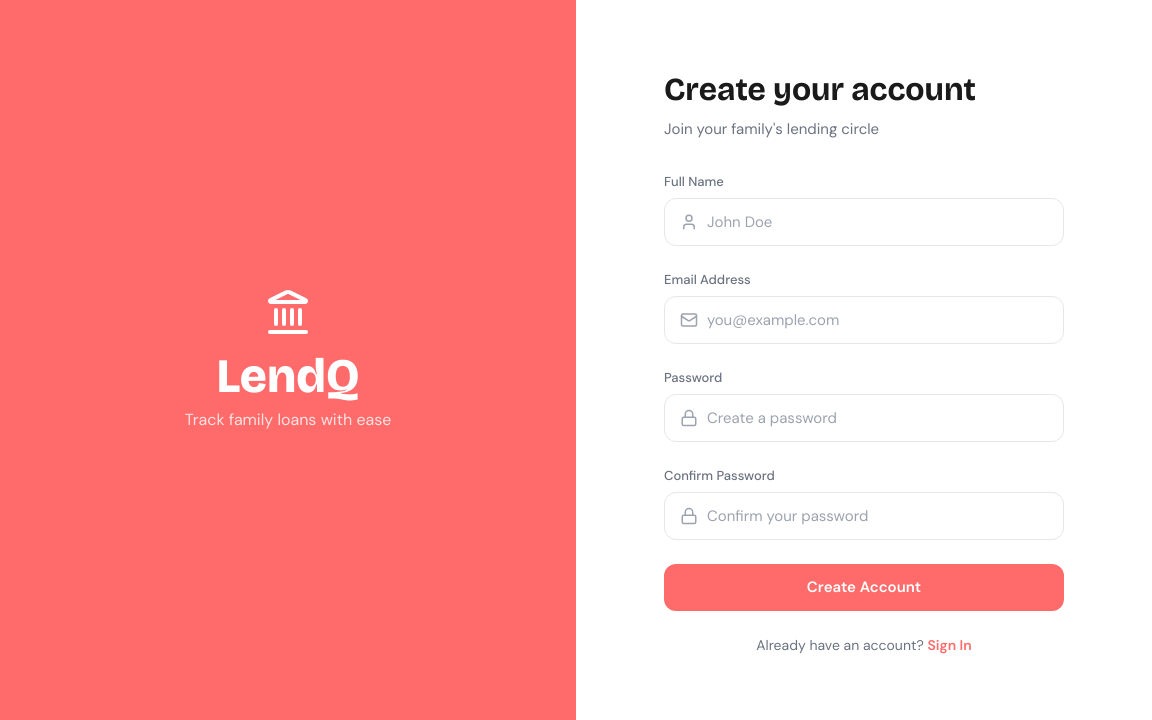
Test: SignUpPage › shows success state after a successful signup
In the field labelled "Full Name": (864, 222) [664,198,1064,246], type "Test User"
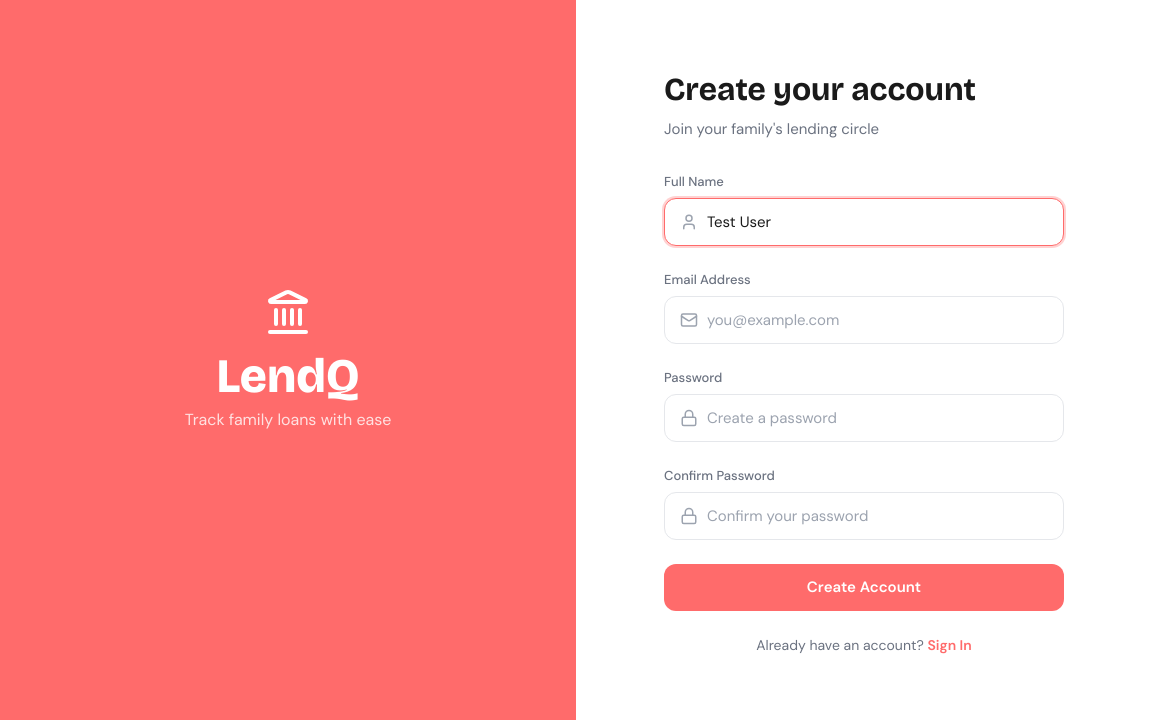
In the field labelled "Email Address": (864, 320) [664,296,1064,344], type "test@example.com"
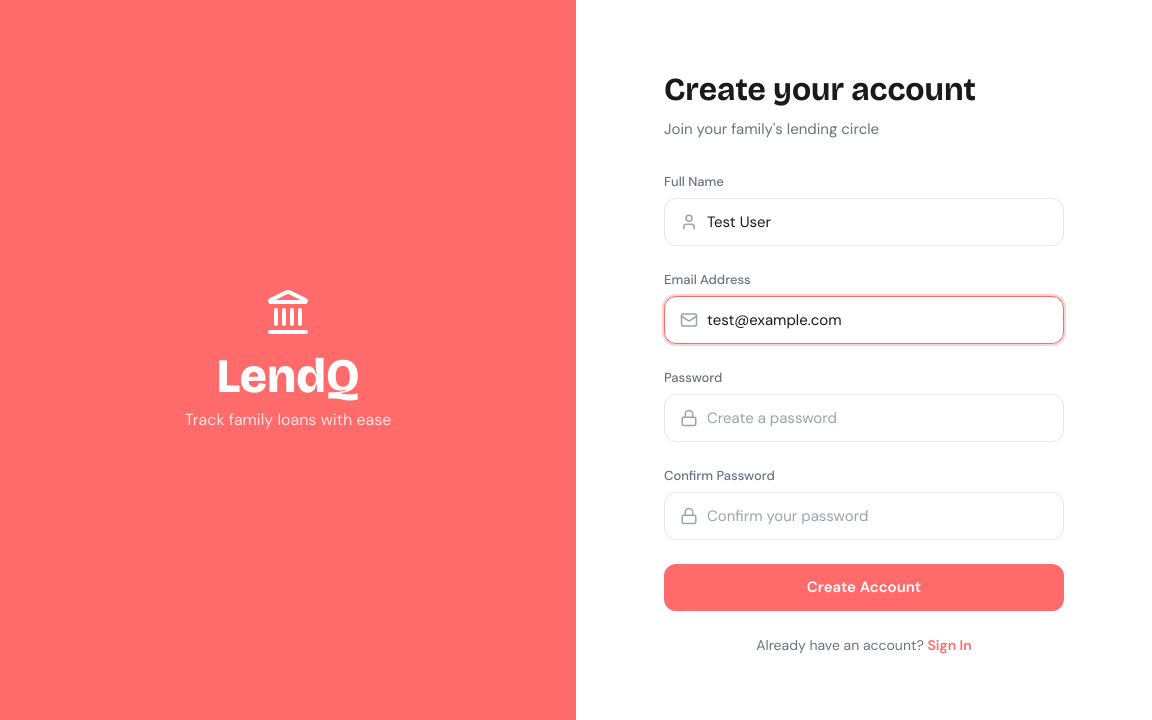
In the password field labelled "Password": (864, 418) [664,394,1064,442], type "password123"
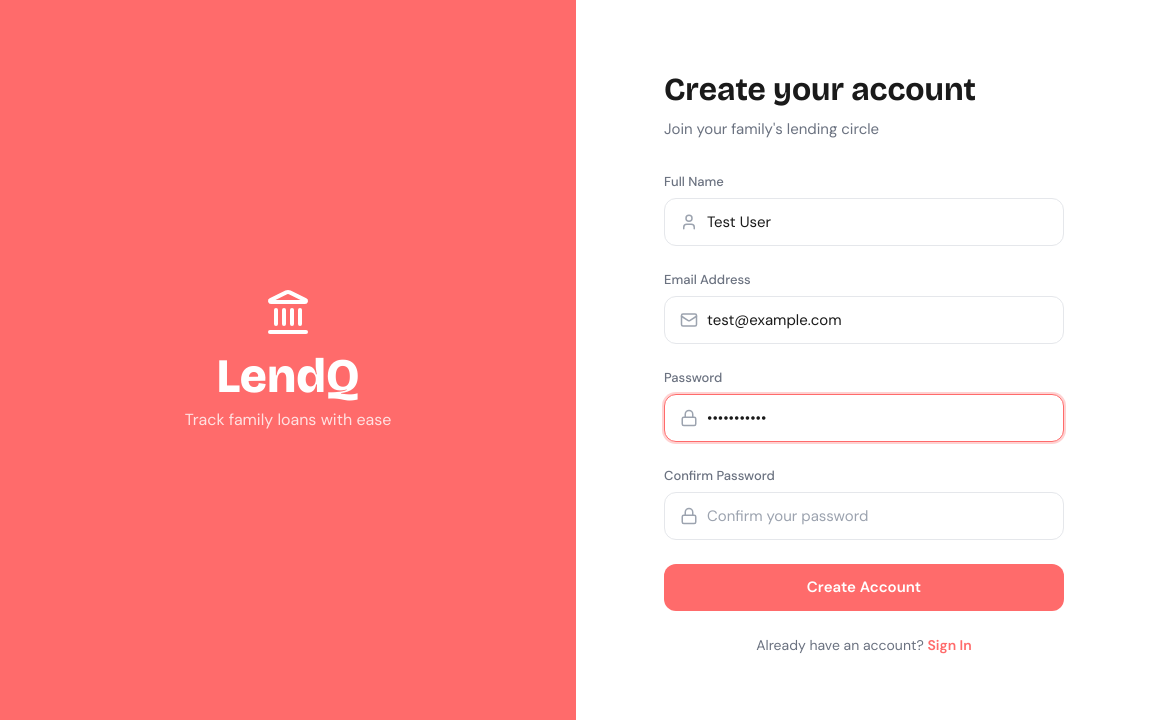
In the password field labelled "Confirm Password": (864, 516) [664,492,1064,540], type "password123"
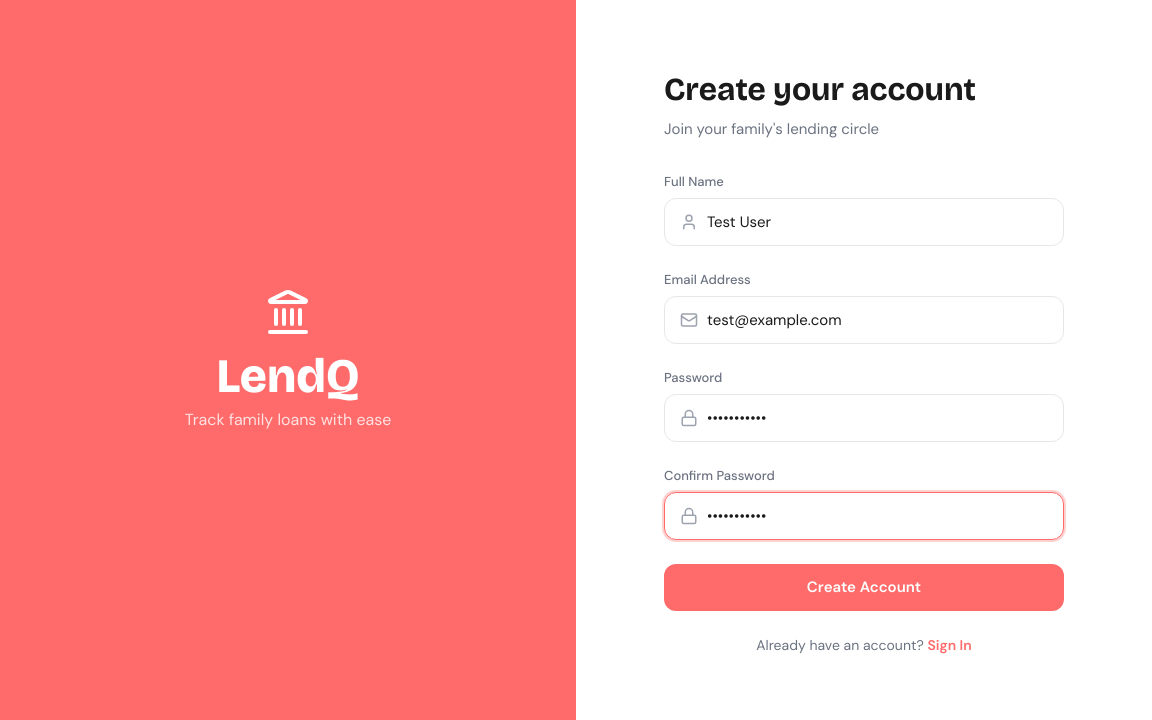
Click the button "Create Account": (864, 587) [664,564,1064,610]
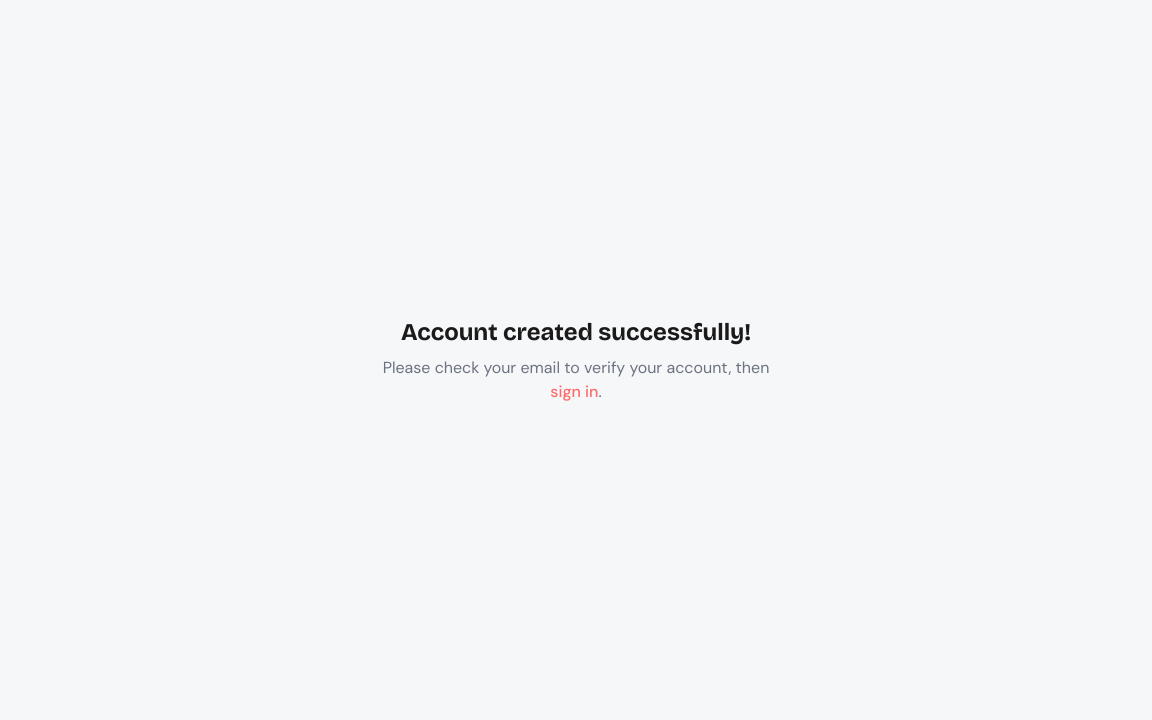
Now the element with test id "signup-success" is shown, box [352,316,800,404]
